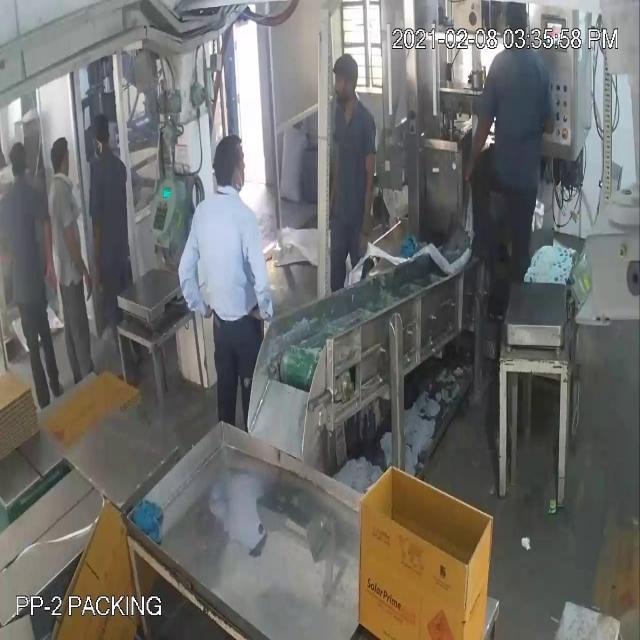No_Gloves: (23, 101, 483, 278)
